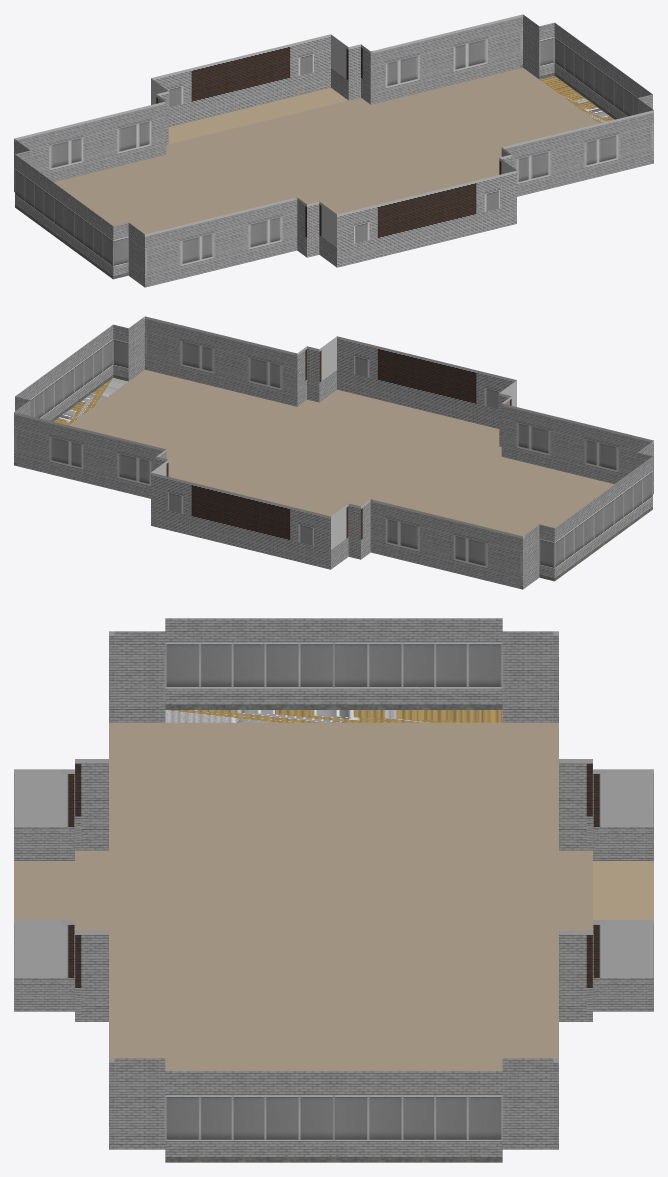
Rendered from building_lod_2.fbx.
3 renders of one model, top to bottom at view 1: azimuth 30°, elevation 25°; view 2: azimuth 150°, elevation 25°; view 3: azimuth 270°, elevation 25°, orthographic. The views are drawn at different scales.
Visible parts, largest first — view 1: building_lod_2; view 2: building_lod_2; view 3: building_lod_2.
Boxes of the visible parts, bbox=[...] form: building_lod_2: bbox=[14, 14, 653, 287]; building_lod_2: bbox=[14, 316, 653, 589]; building_lod_2: bbox=[14, 618, 653, 1162].
Size of the model in its own units: 3180 by 300 by 1900.
